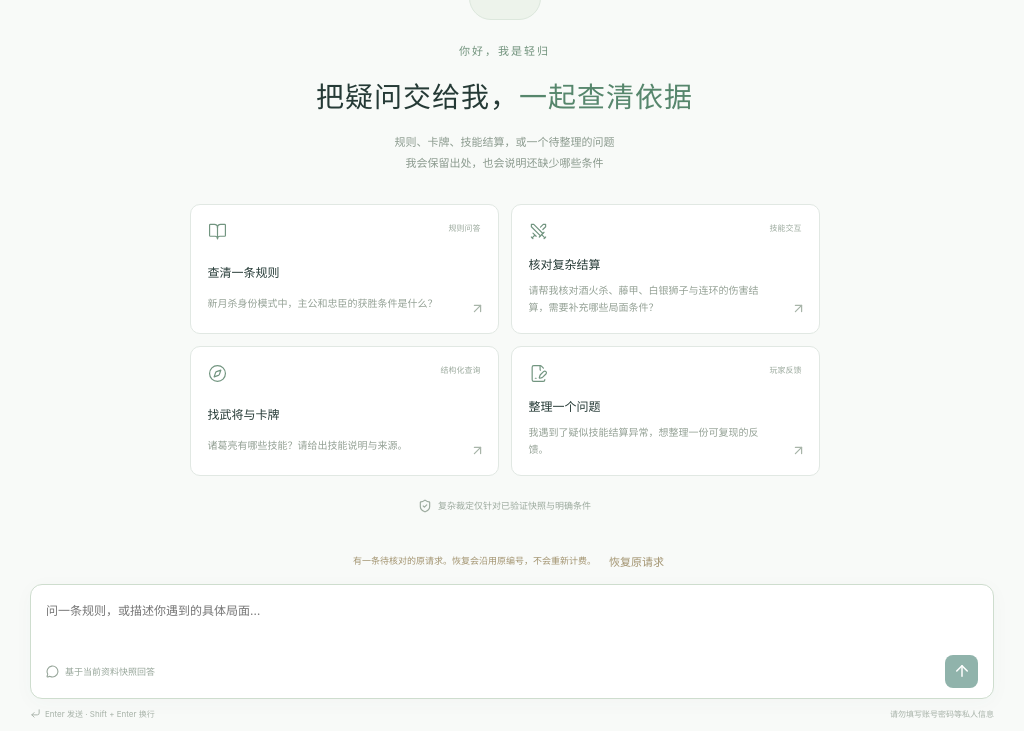
keeps a next-question draft while recovering the previous request
The width and height of the screenshot is (1024, 731).
(page scrolled)
Expected: the button "恢复原请求" is enabled, [602,548,671,574]
Type "下一条草稿" into the text box named "输入问题". click: (512, 625)
box: [46,595,978,655]
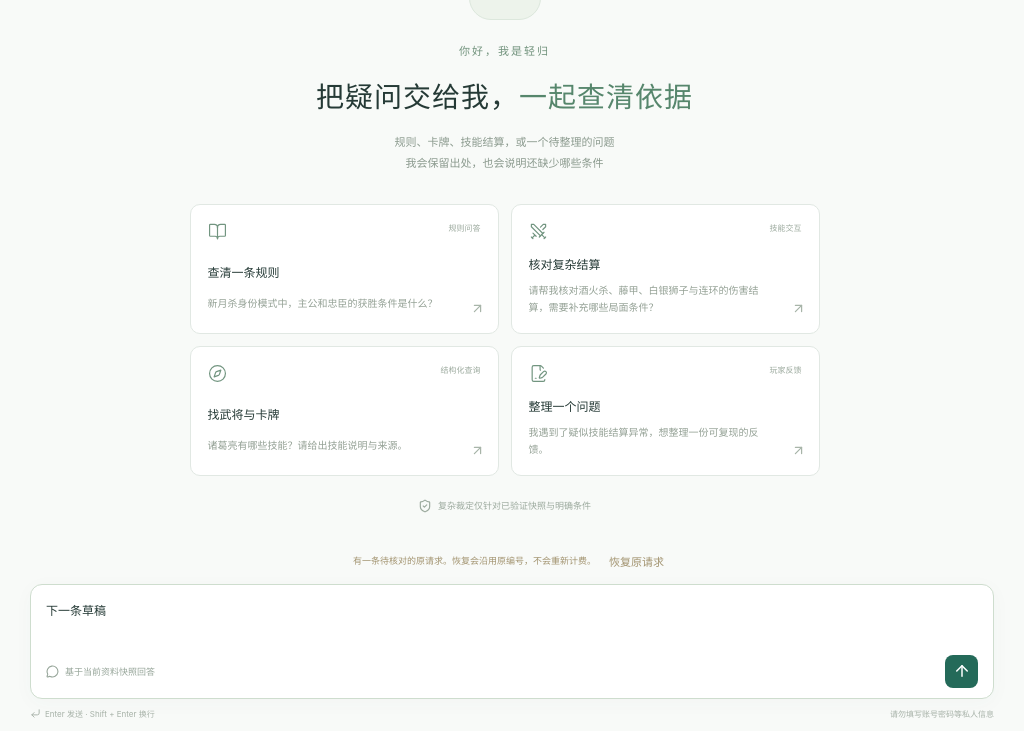
Click the button "恢复原请求". click: (636, 561)
box: [602,548,671,574]
(page scrolled)
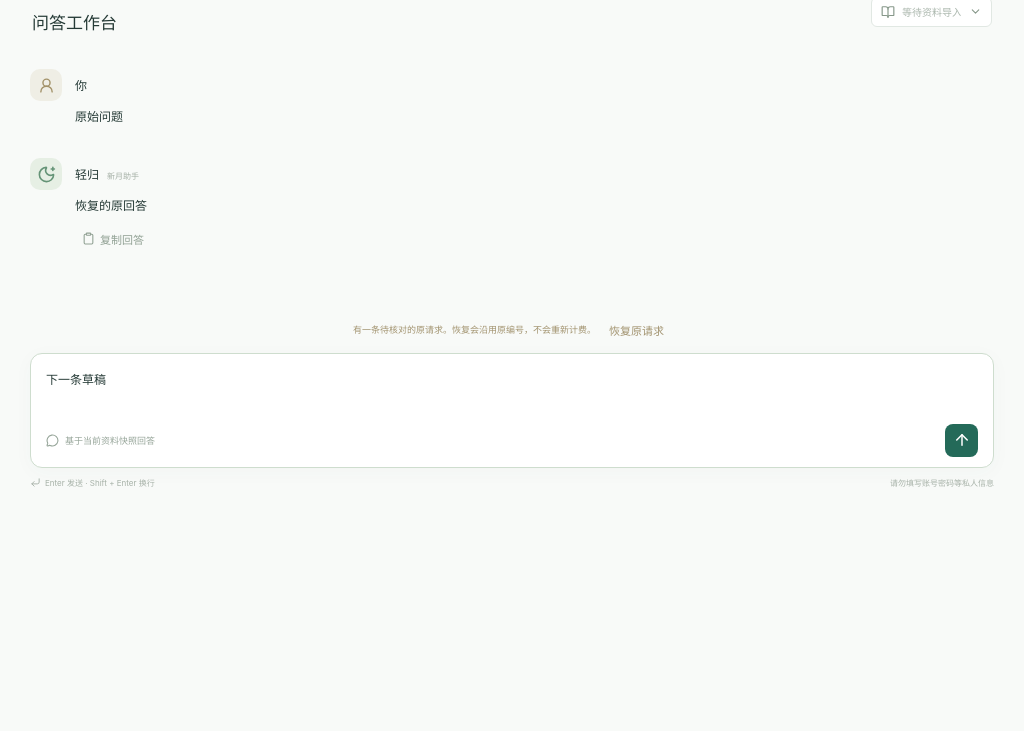
Expected: the text "恢复的原回答" is shown, [75,198,147,213]
Expected: the text "原始问题" is shown, [75,109,123,124]
